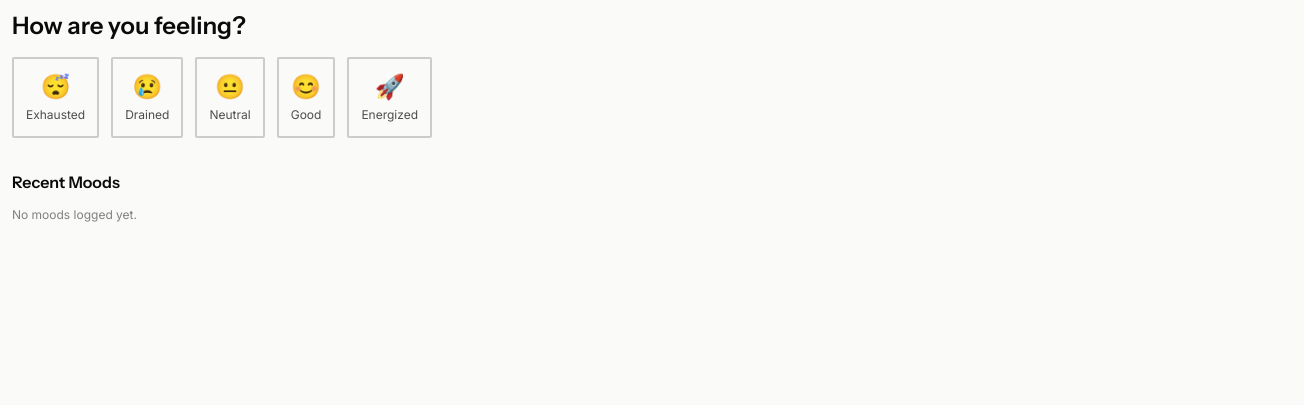
Test case: MoodTracker › shows note input after selecting a mood
Click the text "Good" at coordinates (306, 115), box [291,107,321,124]
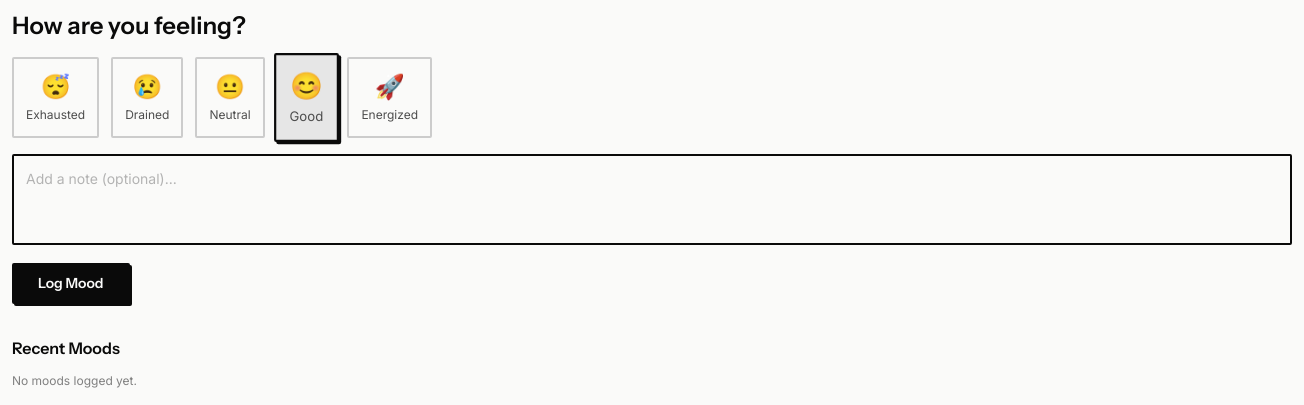
Check: the text box with placeholder "Add a note (optional)..." is shown, box [12,154,1292,245]
Check: the button "Log Mood" is shown, box [12,263,130,304]
